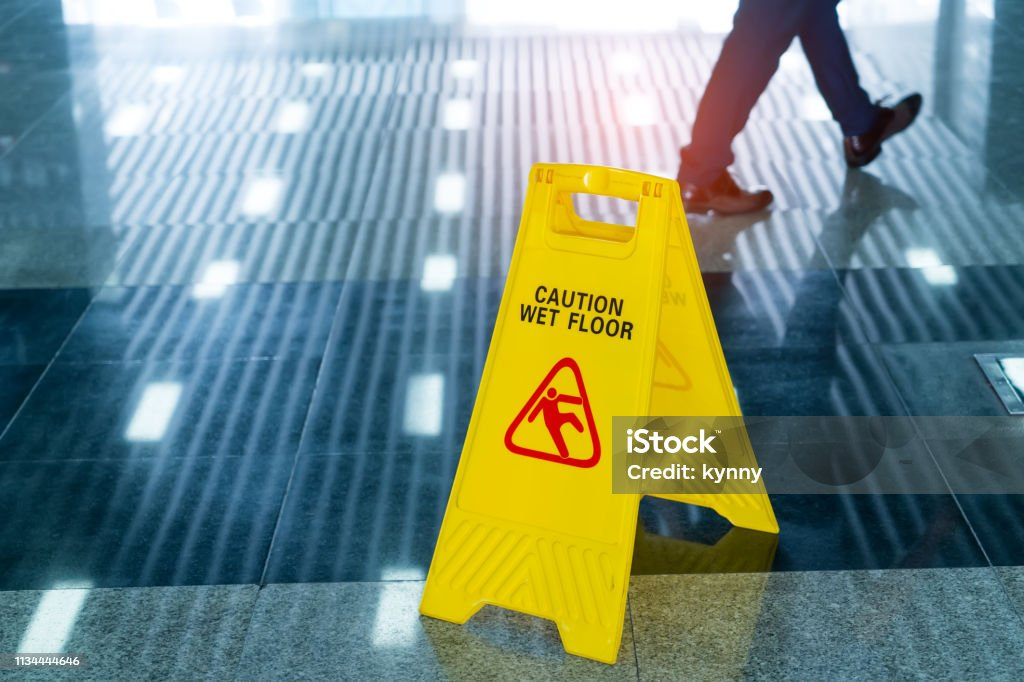wet caution sign: (430, 163, 778, 682)
